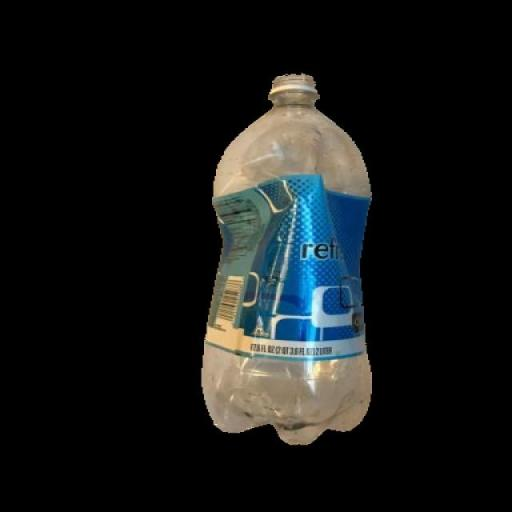plastic: (196, 72, 374, 446)
